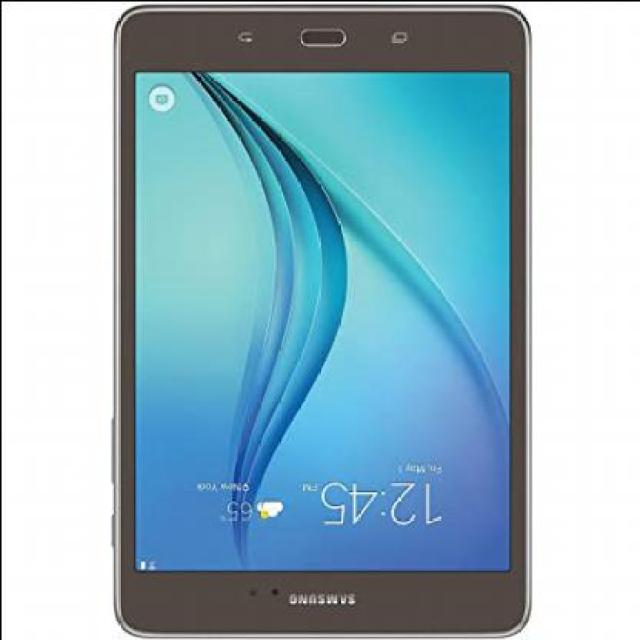tablet: (85, 0, 559, 640)
